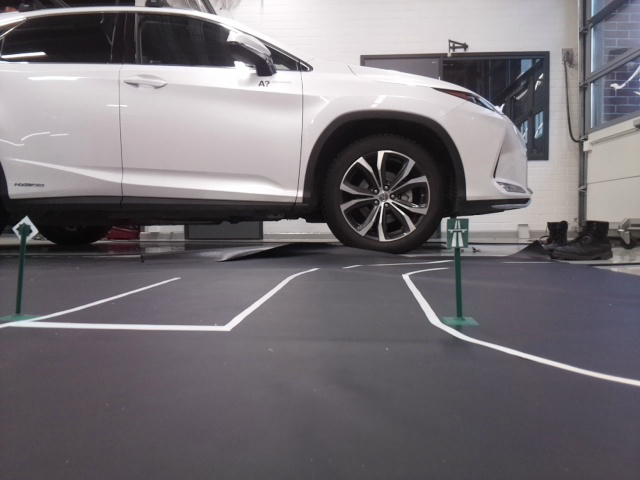HighwayEntrance: (448, 216, 468, 248)
